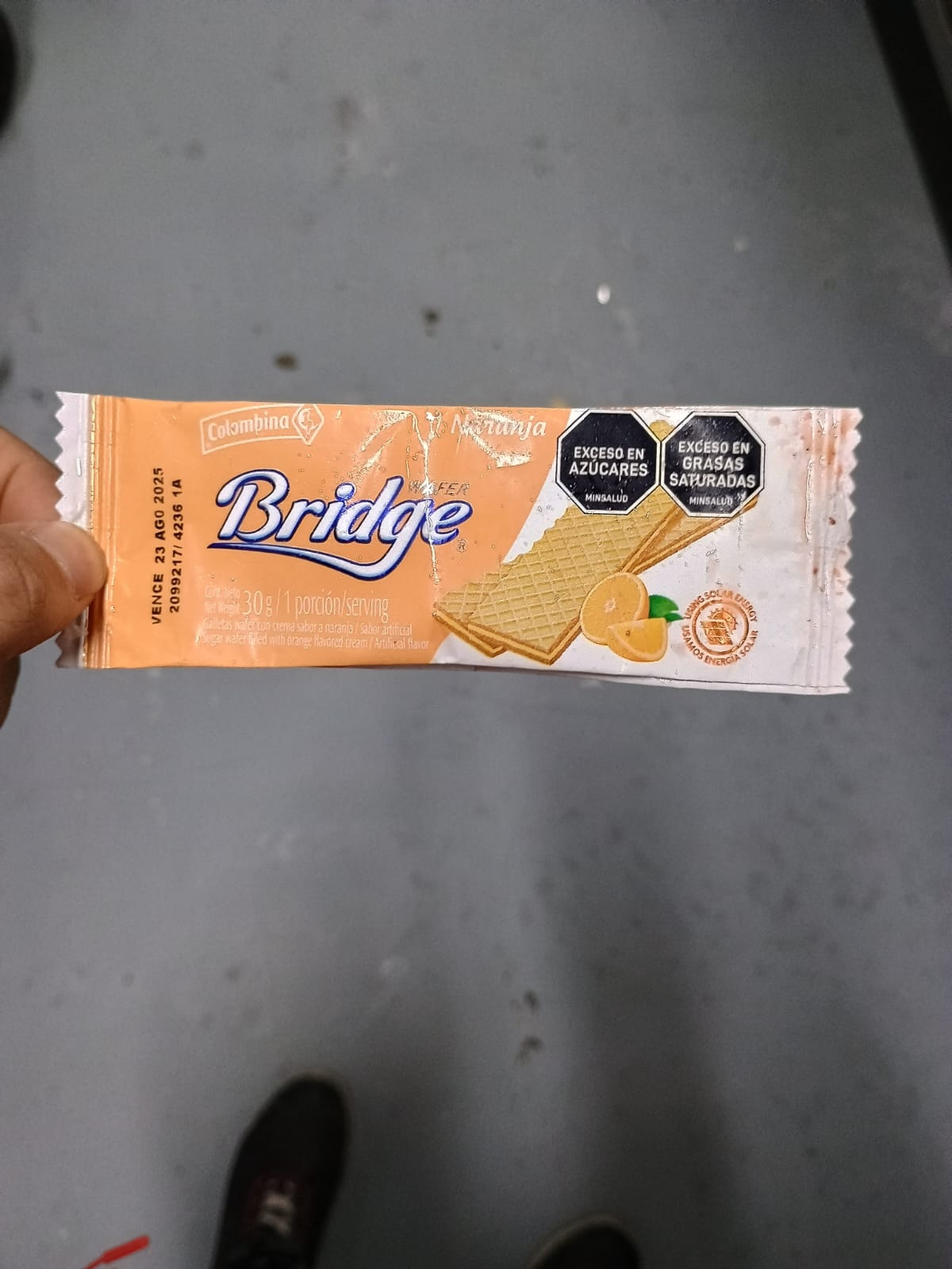Ordinario: (50, 388, 864, 694)
